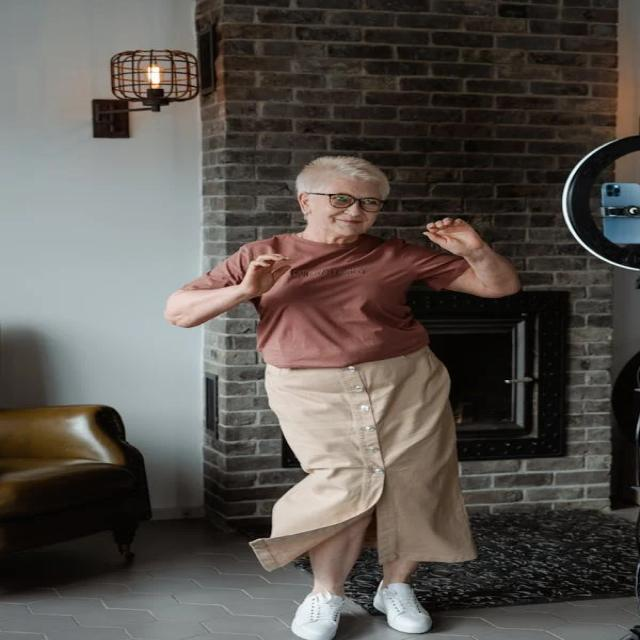Real human 2: (144, 142, 552, 637)
